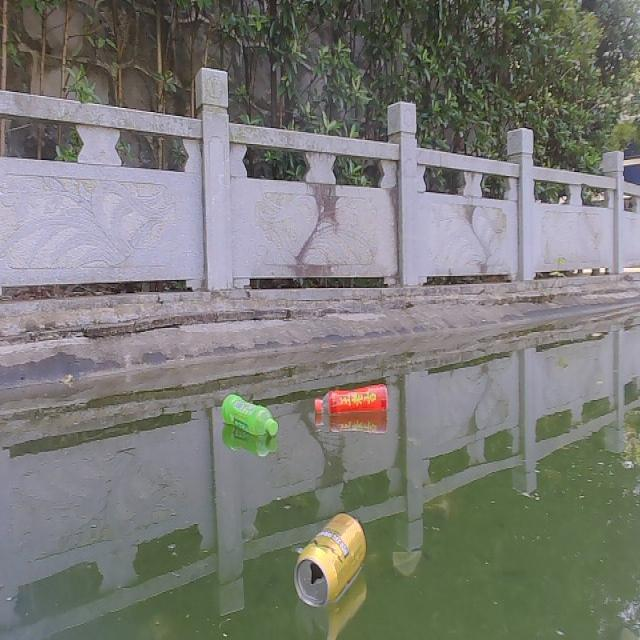bottle: (310, 378, 391, 418), (217, 389, 280, 439)
can: (291, 508, 369, 609)
